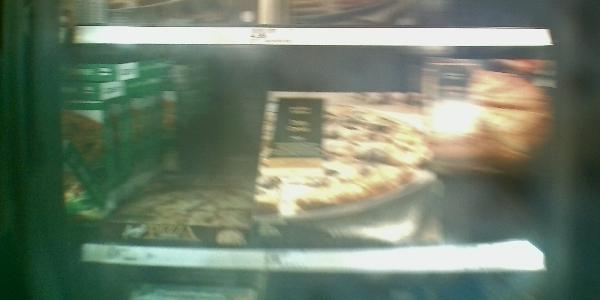pizza: (249, 79, 435, 247), (421, 54, 556, 248)
pizza1: (61, 101, 105, 221), (59, 64, 139, 80), (61, 83, 126, 99)
